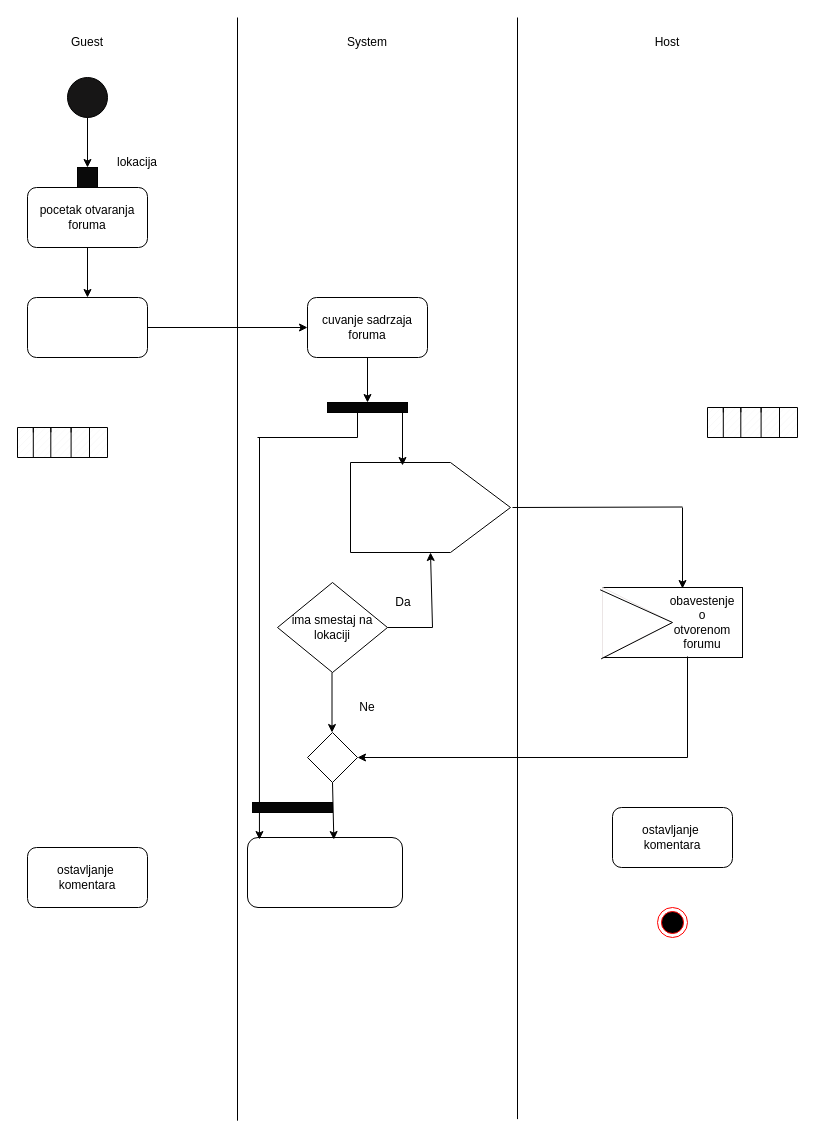
The diagram is 815 pixels wide and 1140 high, and some of its shapes have lost their labels. Here are the shapes that lost their labels. From the top down, the centre of each, then its label:
(x=87, y=327): ostavljanje prvog komentara
(x=430, y=507): obavestenje o otvaranju foruma
(x=324, y=872): prikaz foruma
